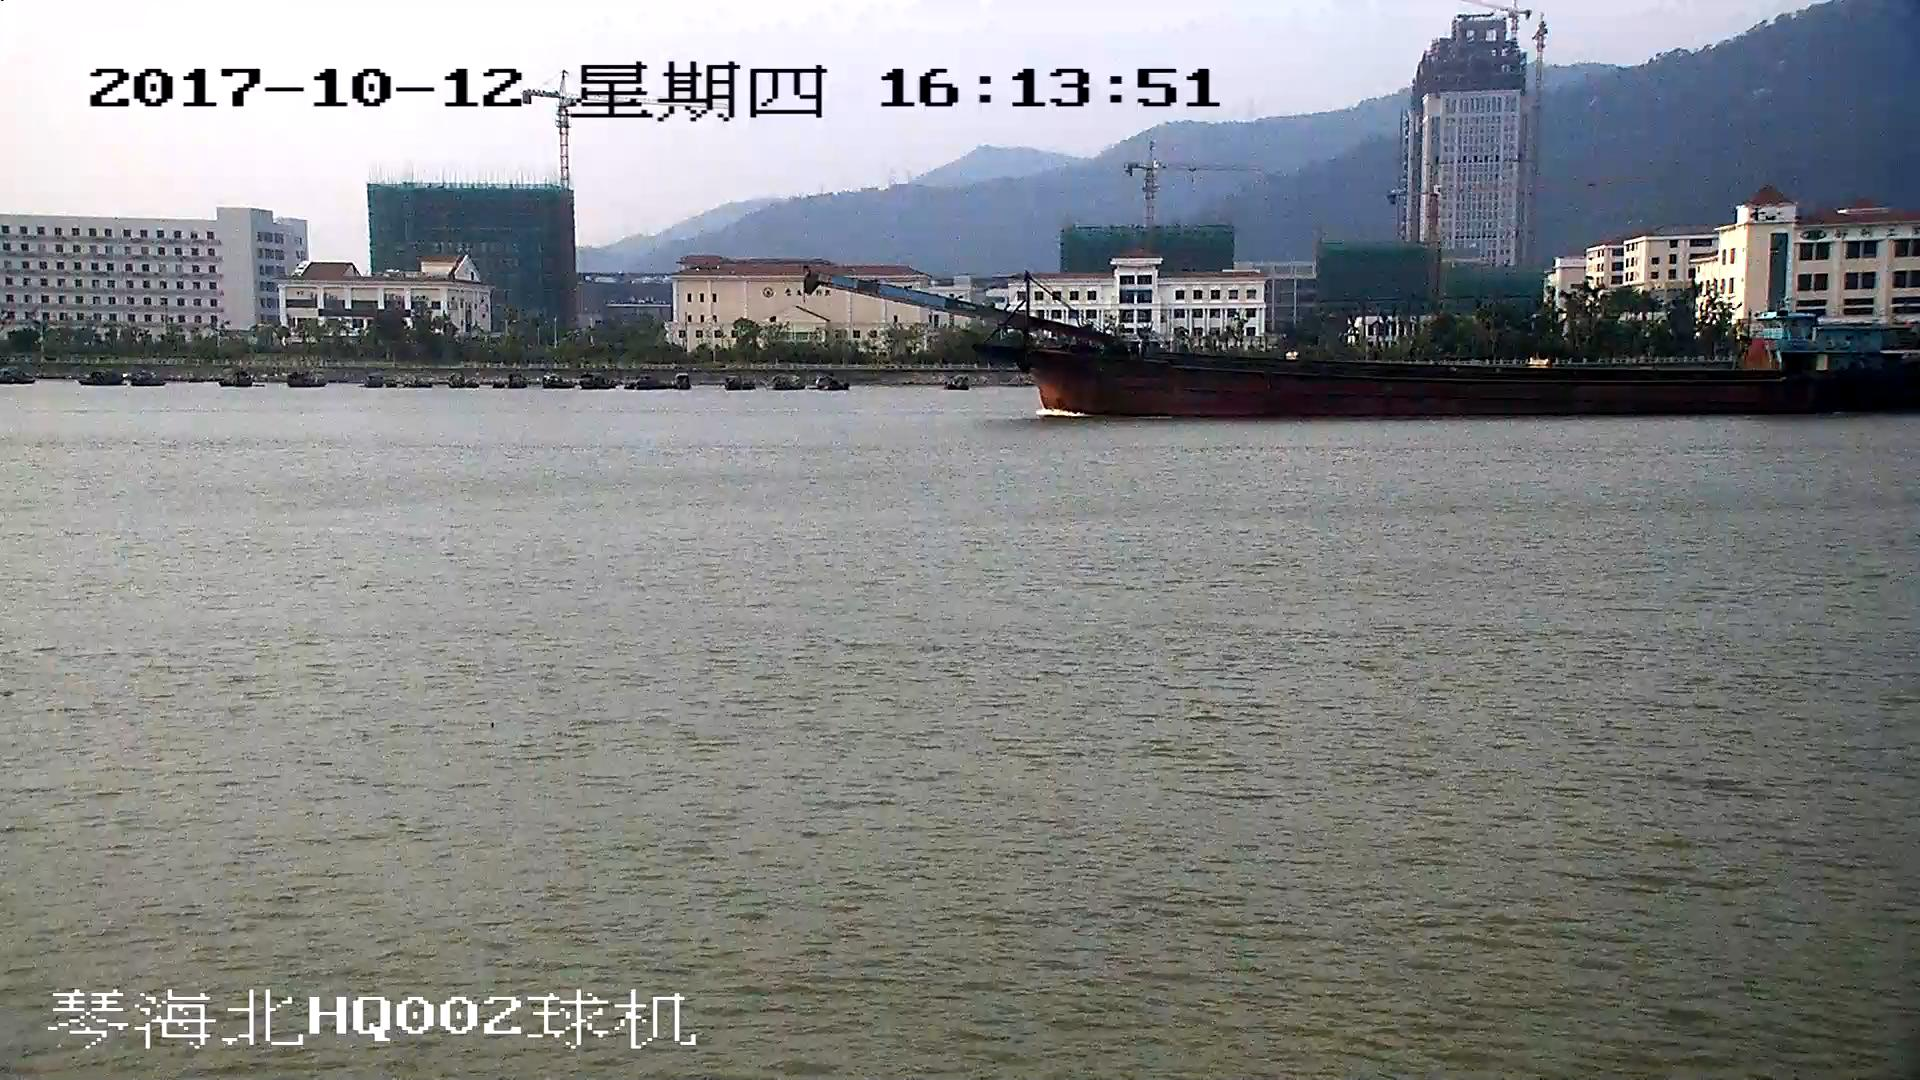bulk cargo carrier: (803, 271, 1920, 418)
